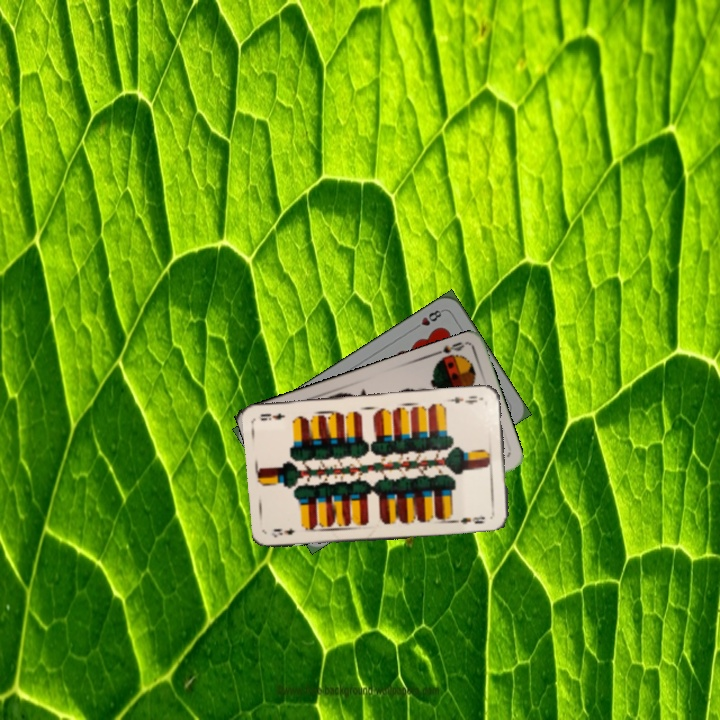E9: (444, 392, 480, 407), (268, 524, 297, 540)
H8: (410, 306, 446, 332)
SO: (429, 338, 468, 366)
